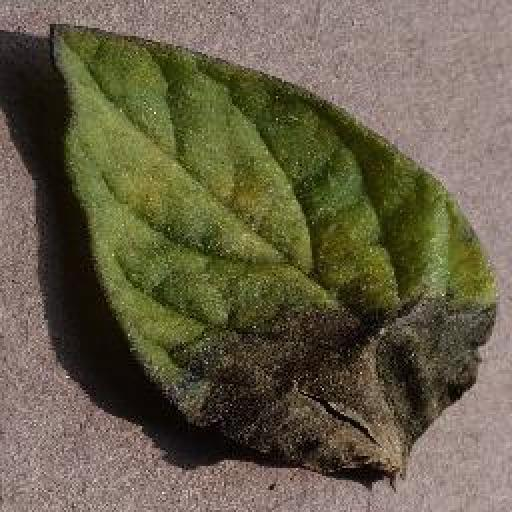Late Blight: (52, 21, 500, 484)
